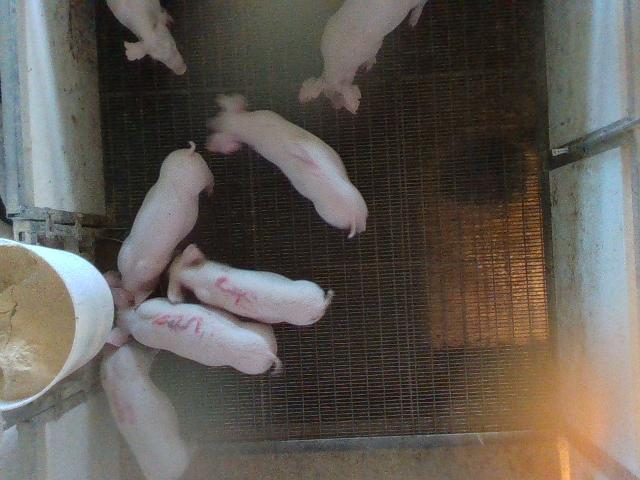pig-1: (206, 95, 368, 237)
pig-3: (108, 288, 281, 374)
pig-4: (100, 340, 190, 479)
pig-5: (168, 244, 334, 324)
